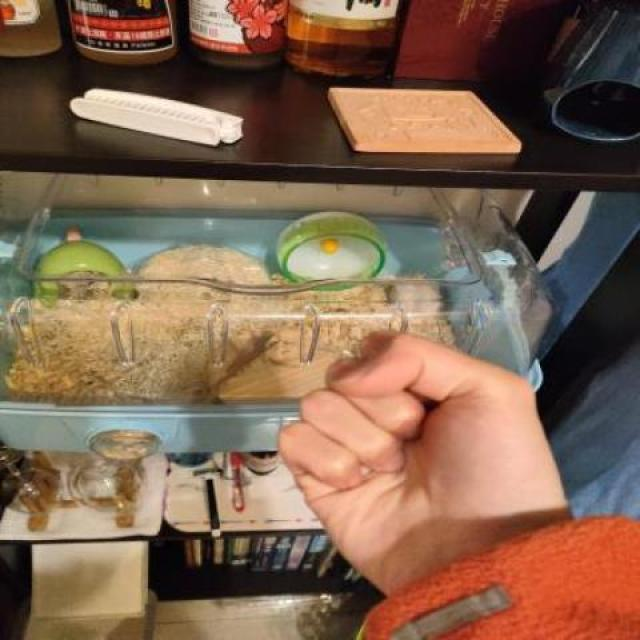Closed Hand: (274, 314, 594, 594)
